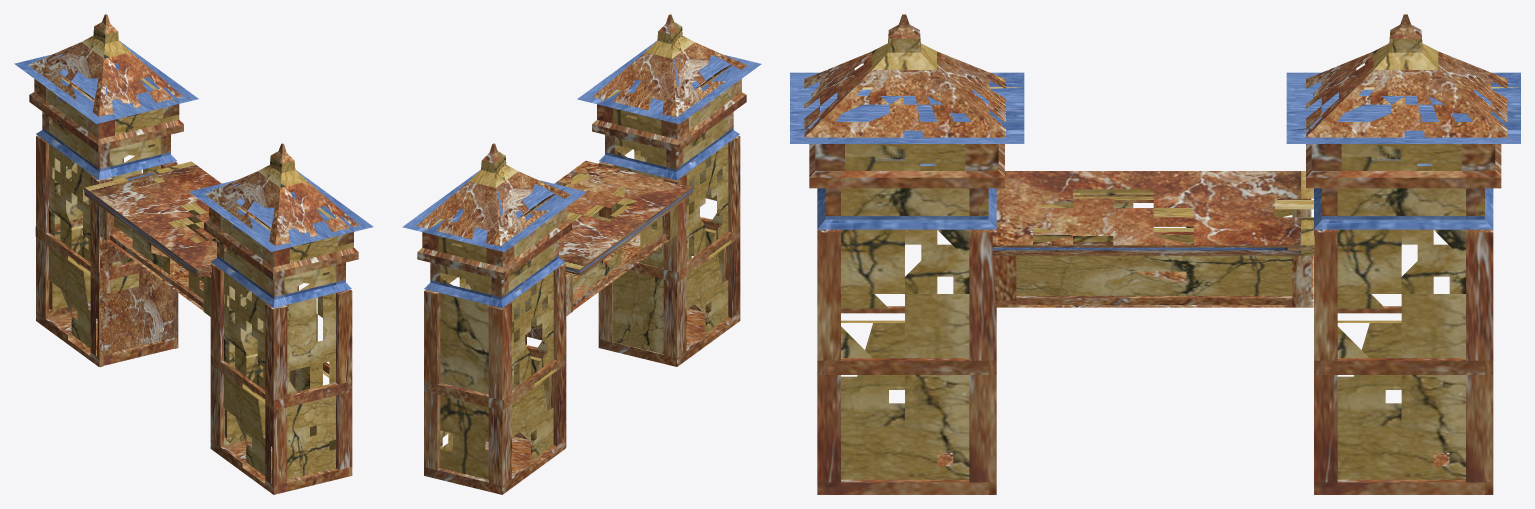
File: Yamato_semidemolished_wall_entrance.blend1.fbx
3 views of the same model, side by side, from view 1: azimuth 30°, elevation 25°; view 2: azimuth 150°, elevation 25°; view 3: azimuth 270°, elevation 25° (orthographic). The views are drawn at different scales.
Visible parts, largest first — view 1: Cube, Cube.002, Cube.004, Cube.005, Cube.001, Cube.003, Plane; view 2: Cube.002, Cube, Cube.005, Cube.004, Cube.003, Cube.001, Plane; view 3: Cube.002, Cube, Cube.005, Cube.004, Cube.001, Cube.003, Plane.
Part boxes in pixels (x1=…): Cube: x1=189, y1=169, x2=373, y2=494; Cube.002: x1=14, y1=40, x2=198, y2=366; Cube.004: x1=100, y1=177, x2=289, y2=445; Cube.005: x1=84, y1=161, x2=221, y2=277; Cube.001: x1=205, y1=143, x2=359, y2=245; Cube.003: x1=28, y1=14, x2=182, y2=116; Plane: x1=107, y1=225, x2=206, y2=310; Cube.002: x1=402, y1=169, x2=586, y2=494; Cube: x1=577, y1=41, x2=761, y2=366; Cube.005: x1=554, y1=161, x2=692, y2=277; Cube.004: x1=514, y1=176, x2=677, y2=447; Cube.003: x1=416, y1=143, x2=570, y2=246; Cube.001: x1=593, y1=14, x2=747, y2=117; Plane: x1=573, y1=216, x2=669, y2=310; Cube.002: x1=1286, y1=72, x2=1520, y2=494; Cube: x1=790, y1=72, x2=1024, y2=494; Cube.005: x1=992, y1=171, x2=1314, y2=255; Cube.004: x1=995, y1=189, x2=1311, y2=307; Cube.001: x1=803, y1=14, x2=1006, y2=137; Cube.003: x1=1304, y1=14, x2=1507, y2=137; Plane: x1=997, y1=255, x2=1313, y2=307.
Bounding box in the file's own units: 300 × 854 × 1248.
Materials: 5 (5 with a texture image).
